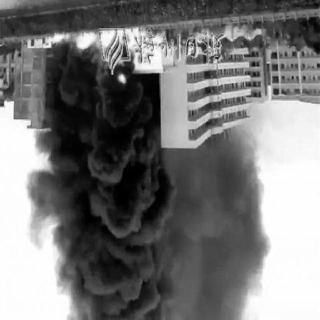Fire: (50, 28, 156, 84)
